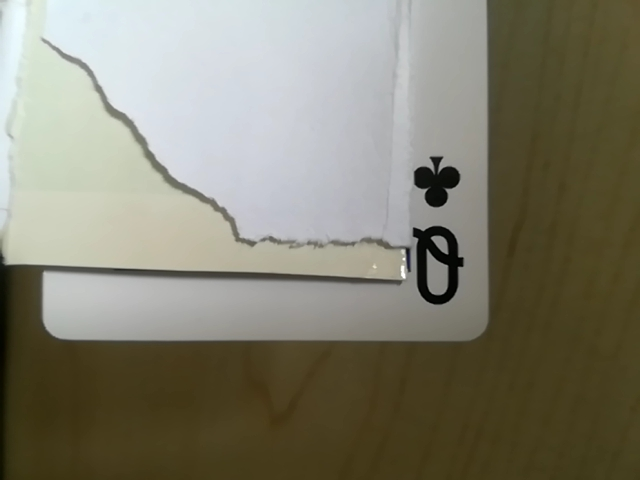mh q: (366, 135, 487, 339)
